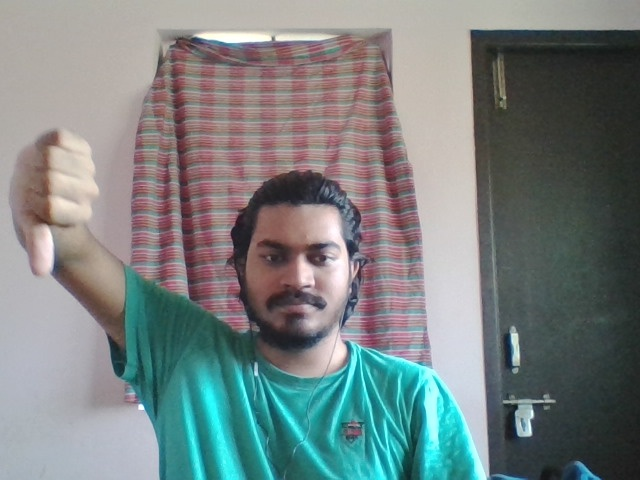ThumbsDown: (9, 129, 101, 277)
